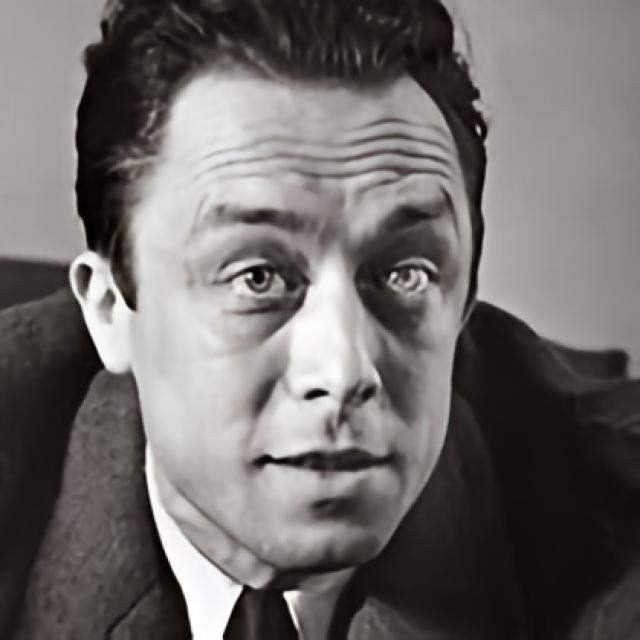surprise: (130, 71, 472, 572)
